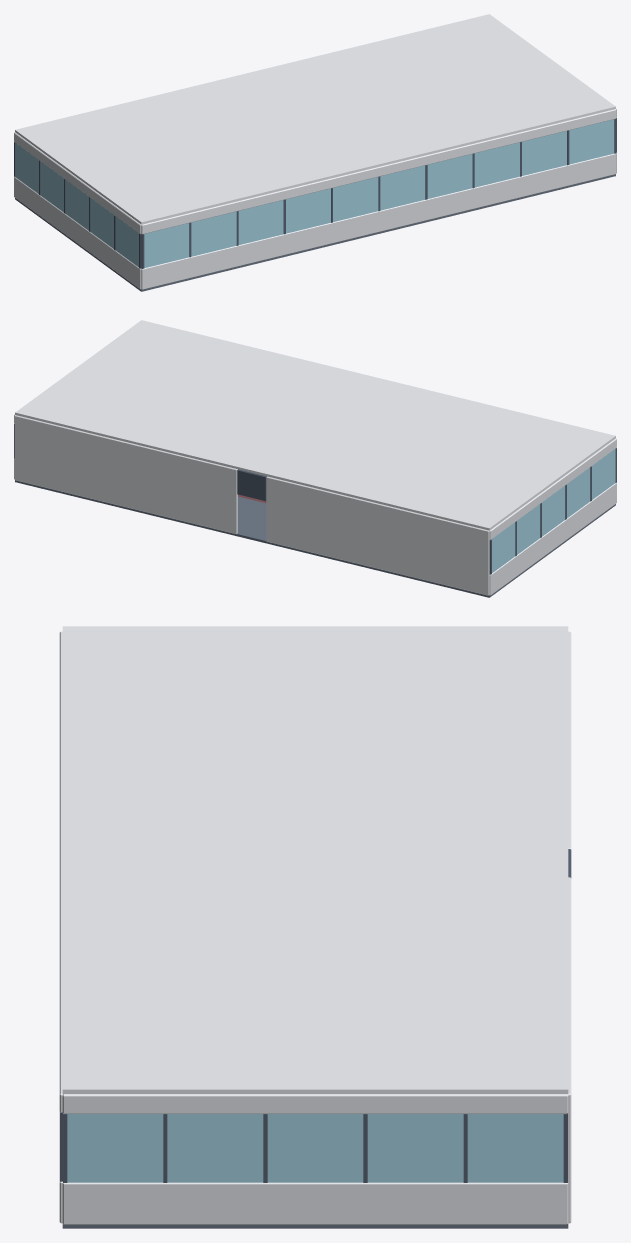
Rendered from bridge.glb.
3 views of the same model, one above another, from view 1: azimuth 30°, elevation 25°; view 2: azimuth 150°, elevation 25°; view 3: azimuth 270°, elevation 25° (orthographic). The views are drawn at different scales.
Visible parts, largest first — view 1: CM_BULKHEAD, CM_GLASS, CM_TRIM, CM_DECK; view 2: CM_BULKHEAD, CM_GLASS, CM_DECK, CM_TRIM; view 3: CM_BULKHEAD, CM_GLASS, CM_DECK, CM_TRIM.
Part boxes in pixels (bbox=[...]): CM_BULKHEAD: bbox=[14, 14, 616, 289]; CM_GLASS: bbox=[15, 119, 614, 268]; CM_TRIM: bbox=[14, 118, 616, 268]; CM_DECK: bbox=[15, 174, 615, 291]; CM_BULKHEAD: bbox=[14, 320, 616, 595]; CM_GLASS: bbox=[491, 449, 615, 572]; CM_DECK: bbox=[15, 480, 615, 597]; CM_TRIM: bbox=[14, 424, 616, 574]; CM_BULKHEAD: bbox=[59, 626, 571, 1224]; CM_GLASS: bbox=[67, 1114, 563, 1182]; CM_DECK: bbox=[62, 1224, 568, 1228]; CM_TRIM: bbox=[60, 849, 571, 1182].
Size of the model in its own units: 26.14 by 3.64 by 12.14.
